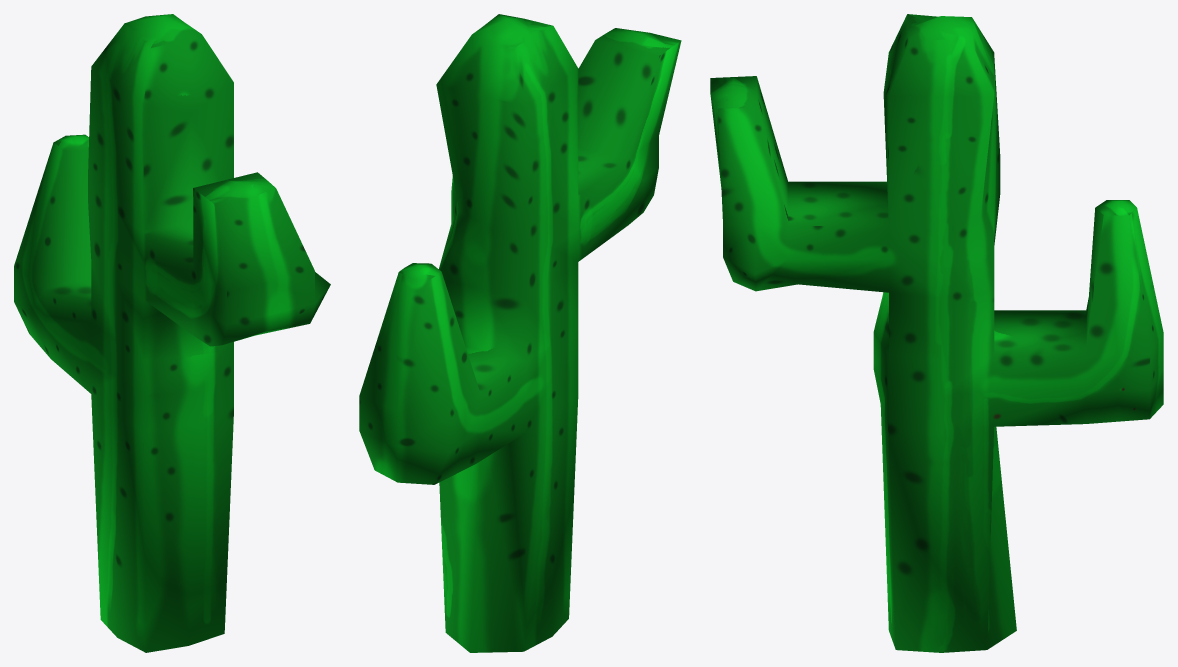
File: cactus.obj
The picture shows the model from 3 angles, left to right: view 1: azimuth 30°, elevation 25°; view 2: azimuth 150°, elevation 25°; view 3: azimuth 270°, elevation 25°; orthographic projection.
Visible parts, largest first — view 1: Cube.003_Cube.191; view 2: Cube.003_Cube.191; view 3: Cube.003_Cube.191.
Part boxes in pixels (x1,y1,x2,y2): Cube.003_Cube.191: (14, 14, 330, 652); Cube.003_Cube.191: (359, 14, 681, 652); Cube.003_Cube.191: (710, 14, 1163, 652).
Size of the model in its own units: 0.9279 by 3.94 by 2.63.
Materials: 1 (1 with a texture image).
